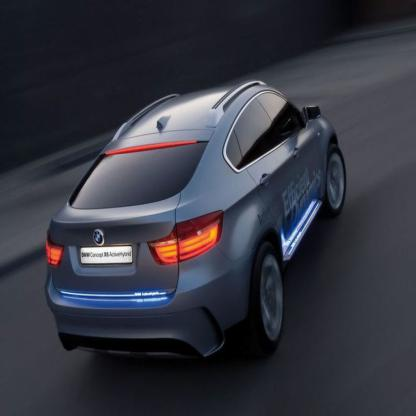Car: (45, 80, 346, 359)
